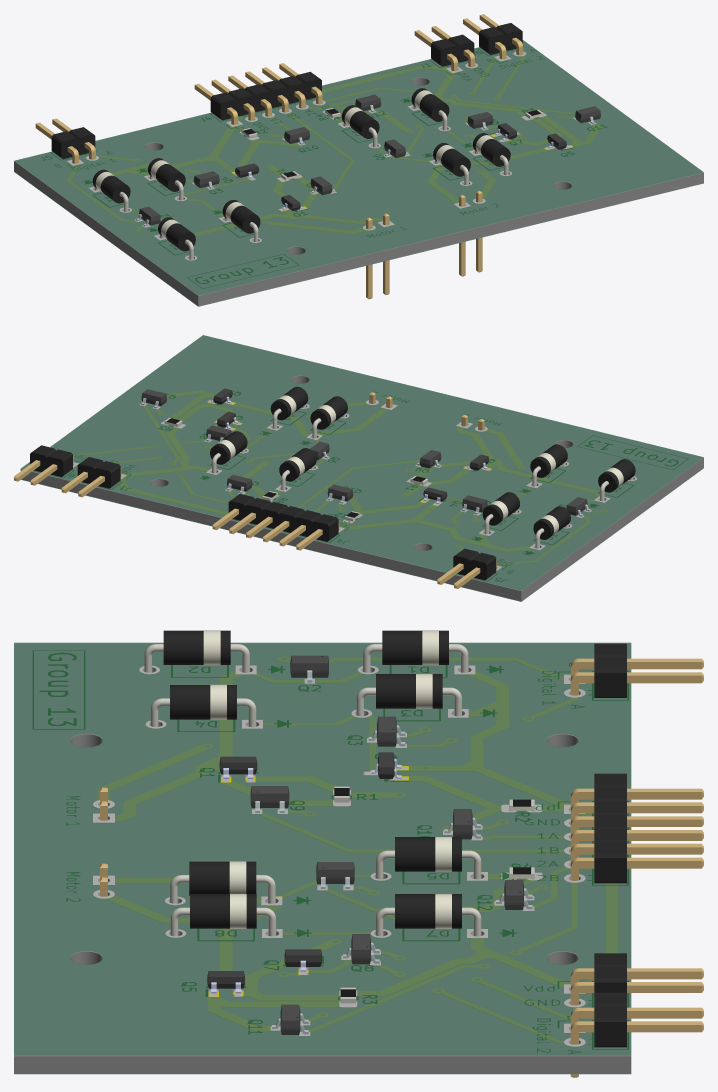
File: line-follower-h-bridge-v3.glb
3 renders of one model, top to bottom at view 1: azimuth 30°, elevation 25°; view 2: azimuth 150°, elevation 25°; view 3: azimuth 270°, elevation 25°, orthographic. The views are drawn at different scales.
Parts seen in each view (by area): view 1: =>[0:1:1:13], =>[0:1:1:14], =>[0:1:1:9], J4, =>[0:1:1:12], =>[0:1:1:10], J5, J6, J1, D7, D5, D1 (+7 smaller); view 2: =>[0:1:1:13], =>[0:1:1:14], =>[0:1:1:9], J4, =>[0:1:1:12], =>[0:1:1:10], J1, J6, J5, D3, D8, D4 (+5 smaller); view 3: =>[0:1:1:13], =>[0:1:1:14], =>[0:1:1:9], J4, =>[0:1:1:12], =>[0:1:1:10], J6, J5, J1, D7, D8, D5 (+9 smaller).
Part boxes in pixels (box(x1,y1,x2,y2)): =>[0:1:1:13]: box(14, 40, 703, 306); =>[0:1:1:14]: box(14, 41, 703, 306); =>[0:1:1:9]: box(67, 56, 600, 235); J4: box(194, 63, 322, 124); =>[0:1:1:12]: box(41, 47, 607, 288); =>[0:1:1:10]: box(67, 51, 595, 260); J5: box(35, 118, 95, 163); J6: box(463, 14, 523, 59); J1: box(414, 26, 474, 71); D7: box(411, 88, 449, 130); D5: box(341, 105, 379, 147); D1: box(92, 169, 130, 211); =>[0:1:1:13]: box(21, 335, 703, 601); =>[0:1:1:14]: box(20, 336, 703, 601); =>[0:1:1:9]: box(74, 391, 607, 565); J4: box(212, 494, 339, 550); =>[0:1:1:12]: box(33, 390, 688, 582); =>[0:1:1:10]: box(73, 400, 636, 570); J1: box(61, 457, 121, 497); J6: box(14, 445, 73, 485); J5: box(437, 548, 496, 588); D3: box(482, 492, 519, 534); D8: box(270, 386, 308, 428); D4: box(530, 444, 567, 486); =>[0:1:1:13]: box(14, 642, 631, 1074); =>[0:1:1:14]: box(14, 644, 631, 1073); =>[0:1:1:9]: box(98, 657, 617, 1043); J4: box(570, 773, 703, 883); =>[0:1:1:12]: box(32, 650, 628, 1054); =>[0:1:1:10]: box(93, 665, 585, 1046); J6: box(570, 992, 703, 1077); J5: box(570, 643, 703, 697); J1: box(570, 953, 703, 1005); D7: box(375, 894, 481, 936); D8: box(170, 894, 276, 936); D5: box(375, 837, 481, 879).
Bounding box in the file's own units: 0.076 × 0.0134 × 0.0537.
